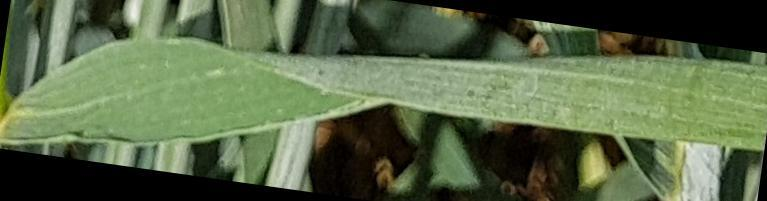Wheat: (25, 5, 309, 152), (339, 12, 479, 101), (639, 64, 767, 142), (497, 60, 626, 127)
